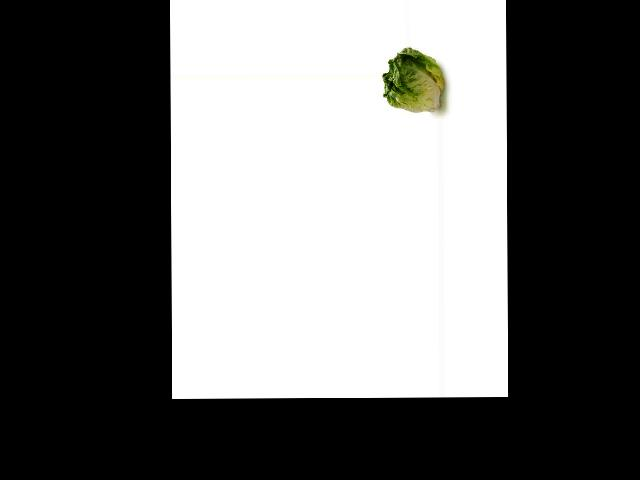lettuce: (380, 44, 443, 117)
